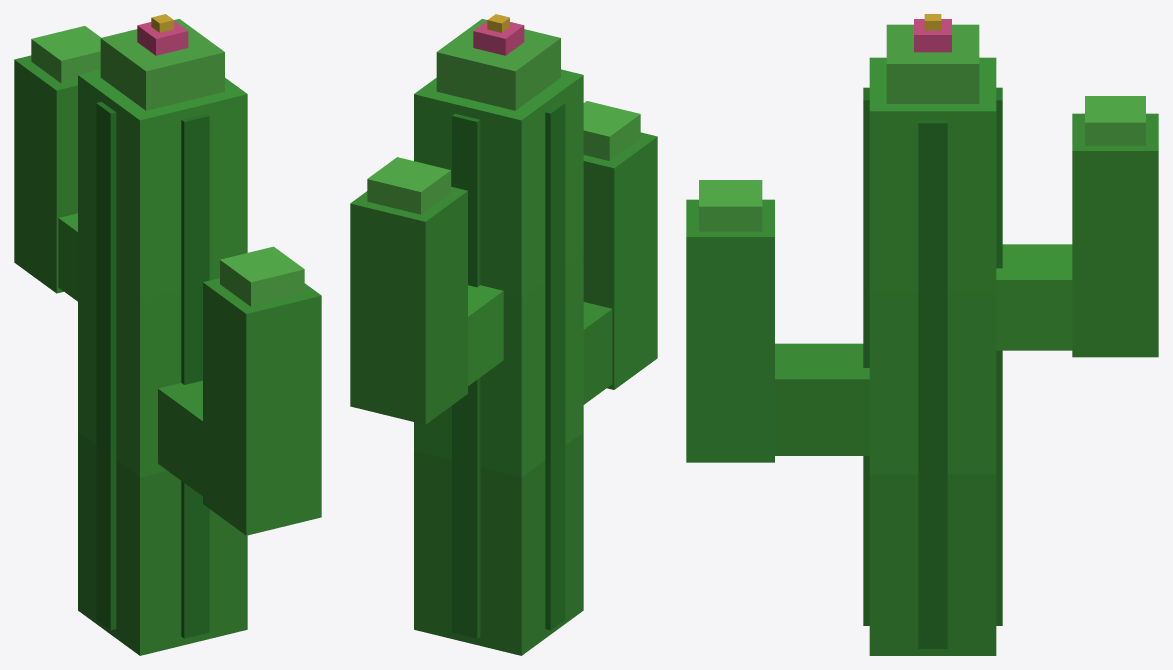
The model's file is cactus.glb.
3 renders of one model, left to right at view 1: azimuth 30°, elevation 25°; view 2: azimuth 150°, elevation 25°; view 3: azimuth 270°, elevation 25°, orthographic.
Visible parts, largest first — view 1: cactus; view 2: cactus; view 3: cactus.
Part boxes in pixels (x1,y1,x2,y2): cactus: (14,14,321,655); cactus: (350,14,657,655); cactus: (686,14,1158,655).
Size of the model in its own units: 0.66 by 3.2 by 2.24.
